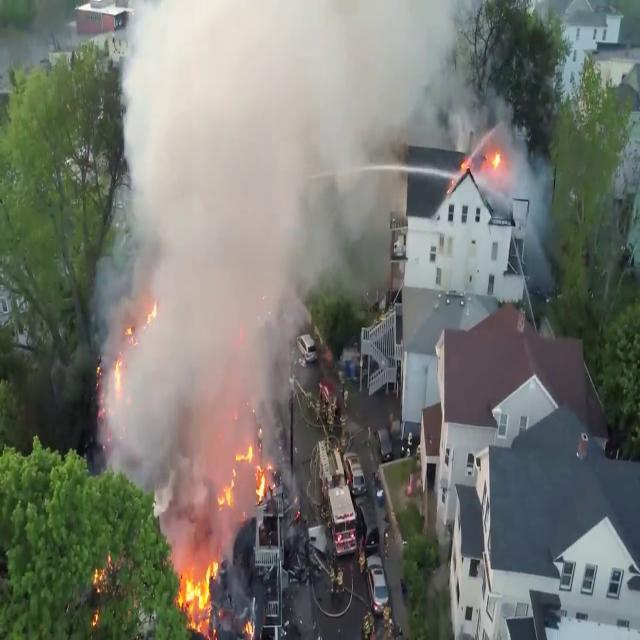Fire: (176, 554, 220, 630), (242, 439, 276, 504)
Smoke: (87, 0, 389, 507), (88, 0, 526, 171)
